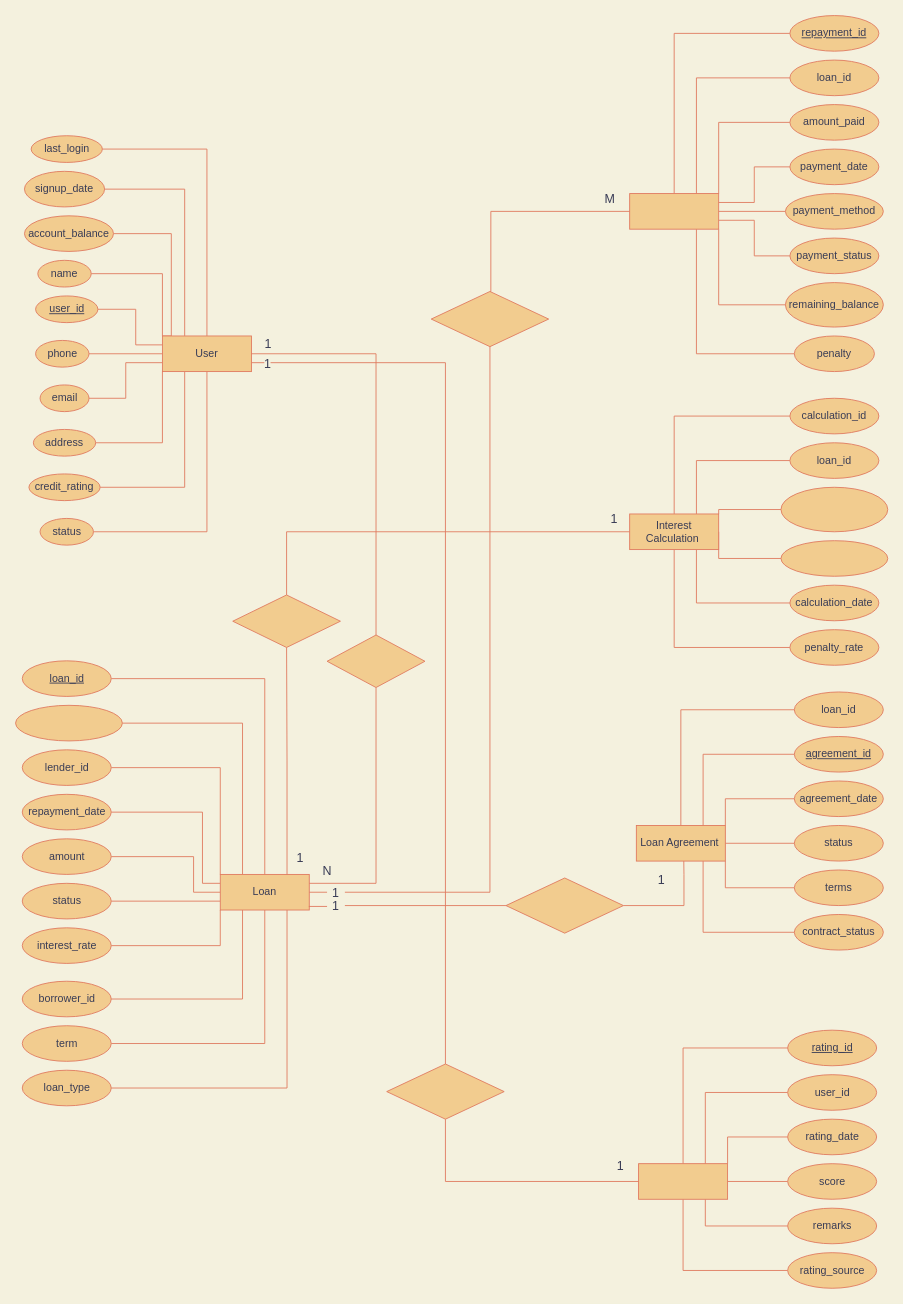
Some shapes in this 903 by 1304 pixel diagram are drawn without their labels. The shapes that lost their labels are listed below. From the top down, each one's centre as x and y in pixels, then its label:
At point 674,211: "Repayment".
At point 489,319: "Repays".
At point 834,509: "calculated_interest".
At point 834,558: "total_amount_due".
At point 286,620: "Calculates".
At point 375,661: "Borrows".
At point 68,722: "disbursement_date".
At point 564,905: "Defines".
At point 445,1091: "Has Rating".
At point 683,1181: "Credit Rating".
